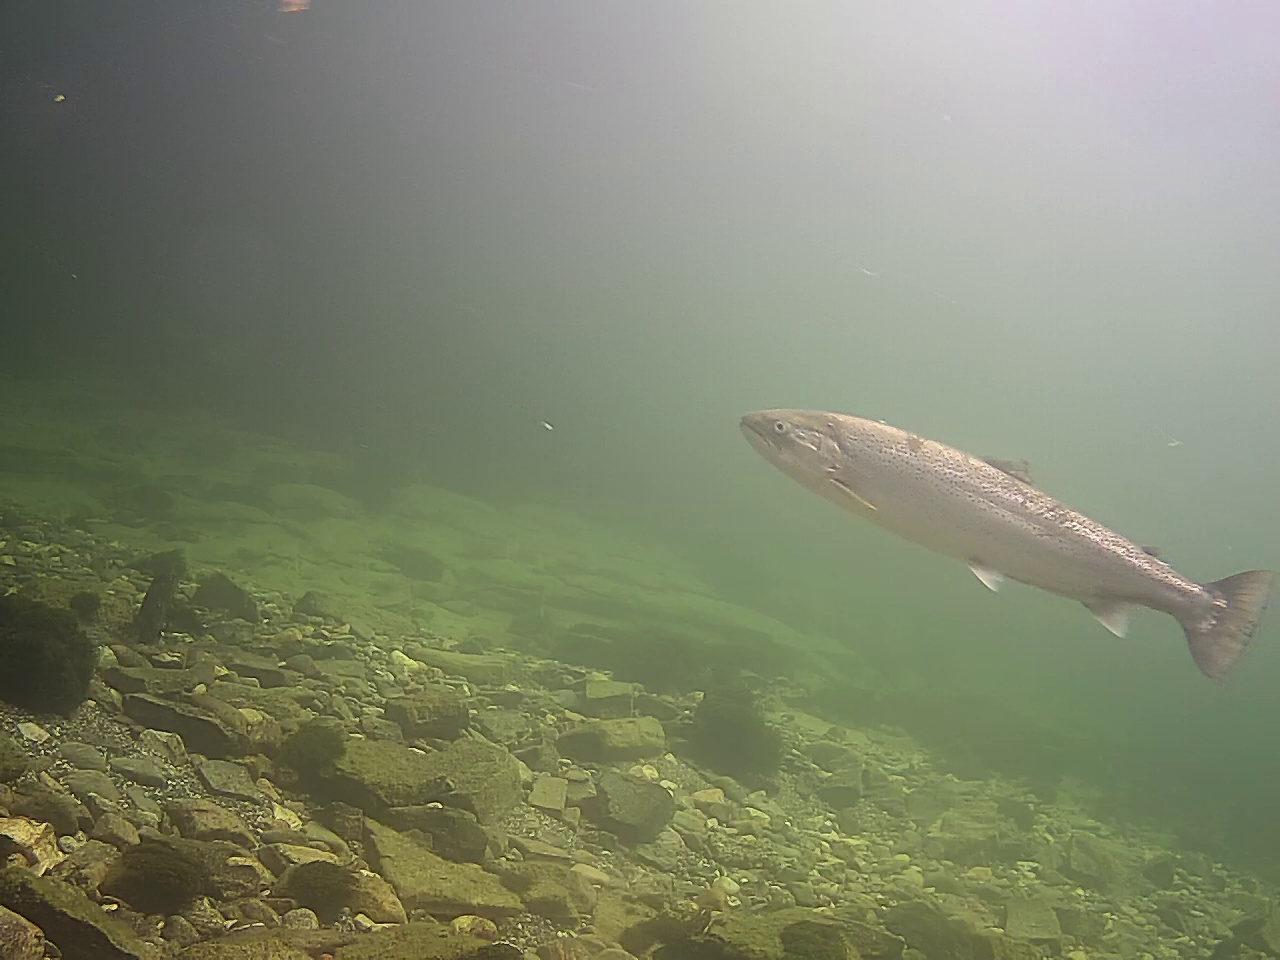salmon: (736, 406, 1280, 685)
